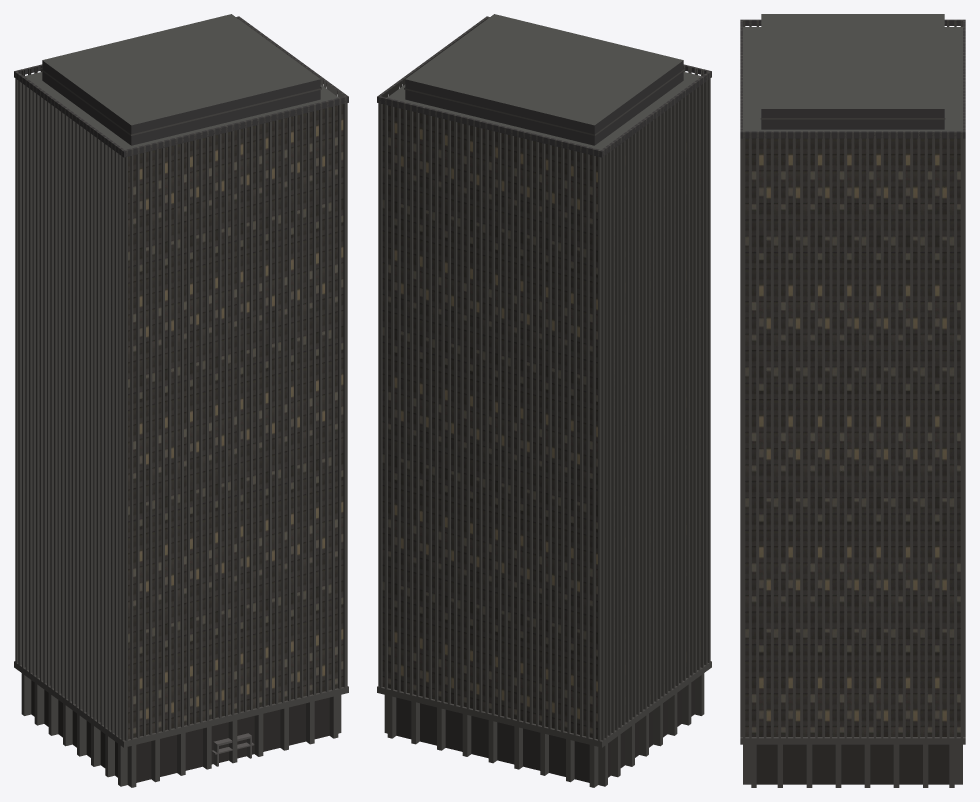
File: market_525.glb
The picture shows the model from 3 angles, left to right: view 1: azimuth 30°, elevation 25°; view 2: azimuth 150°, elevation 25°; view 3: azimuth 270°, elevation 25°; orthographic projection. The views are drawn at different scales.
Visible parts, largest first — view 1: market_525; view 2: market_525; view 3: market_525.
Boxes of the visible parts, x1,y1,x2,y2 form: market_525: [14, 14, 348, 787]; market_525: [377, 14, 711, 787]; market_525: [740, 14, 965, 787].
Bounding box in the file's own units: 58 × 161 × 49.
Materials: 2 (2 with a texture image).
